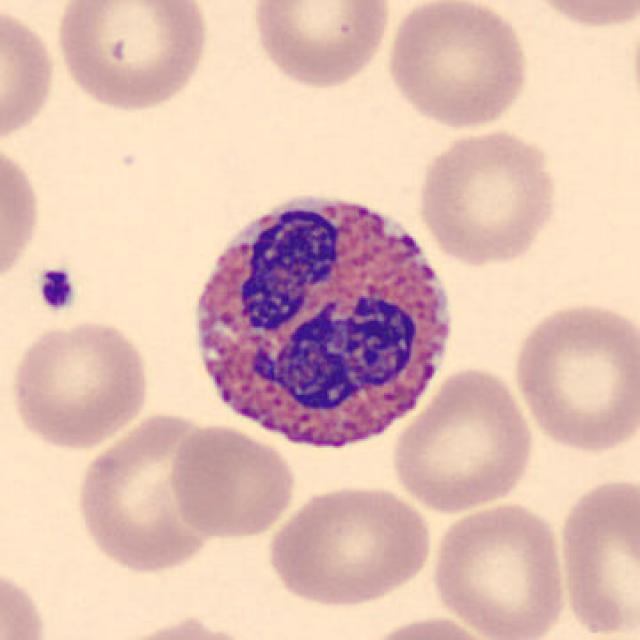Eosinophil: (178, 176, 468, 469)
Platelets: (32, 264, 80, 316)
RBC: (71, 407, 233, 577), (387, 363, 537, 515), (263, 480, 436, 610), (412, 125, 564, 268), (508, 296, 638, 457), (5, 316, 155, 452), (426, 499, 570, 640), (382, 0, 534, 132), (52, 0, 214, 115), (165, 422, 299, 542), (553, 473, 638, 638), (247, 0, 395, 92), (0, 2, 60, 150), (0, 137, 44, 292), (99, 613, 264, 640), (0, 559, 52, 640), (355, 613, 503, 640), (518, 0, 638, 32)
